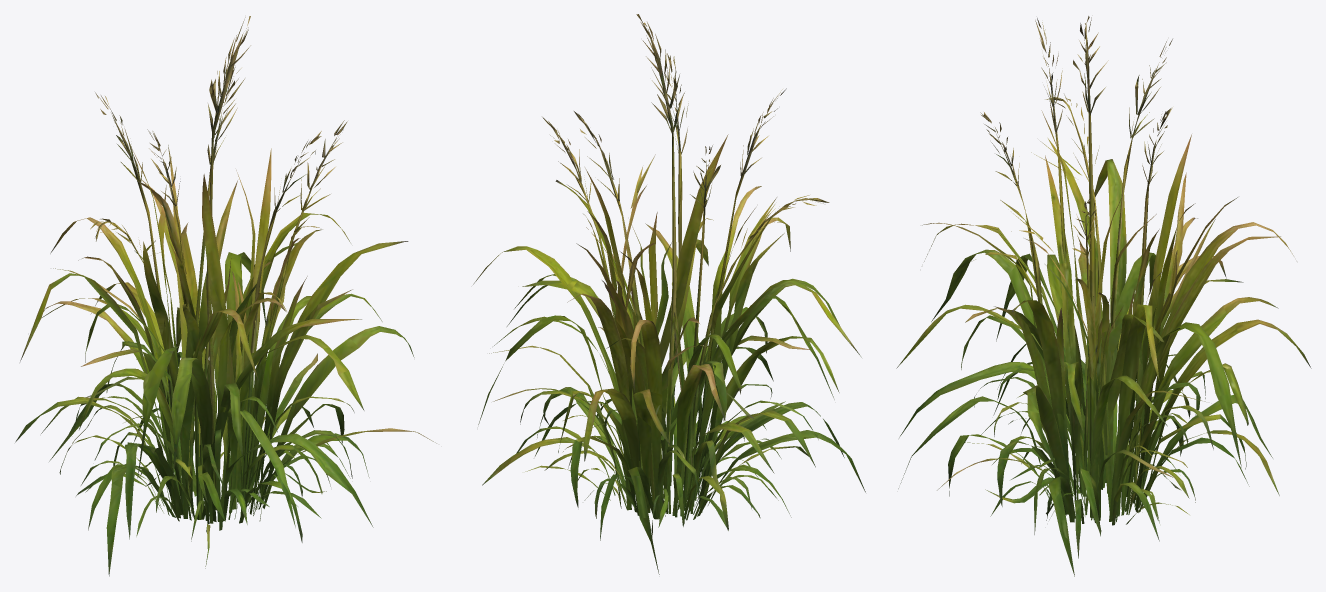
Rendered from Yuyos_1_LOD2.glb.
The picture shows the model from 3 angles, left to right: view 1: azimuth 30°, elevation 25°; view 2: azimuth 150°, elevation 25°; view 3: azimuth 270°, elevation 25°; orthographic projection. The views are drawn at different scales.
Parts seen in each view (by area): view 1: tripo_node_e254b9e8-654f-4027-8854-1ef270dcddd6; view 2: tripo_node_e254b9e8-654f-4027-8854-1ef270dcddd6; view 3: tripo_node_e254b9e8-654f-4027-8854-1ef270dcddd6.
Boxes of the visible parts, x1=… form: tripo_node_e254b9e8-654f-4027-8854-1ef270dcddd6: x1=15, y1=16, x2=436, y2=576; tripo_node_e254b9e8-654f-4027-8854-1ef270dcddd6: x1=473, y1=14, x2=865, y2=574; tripo_node_e254b9e8-654f-4027-8854-1ef270dcddd6: x1=896, y1=16, x2=1311, y2=576.
Bounding box in the file's own units: 0.7934 × 0.9808 × 0.7305.
Materials: 1 (1 with a texture image).
